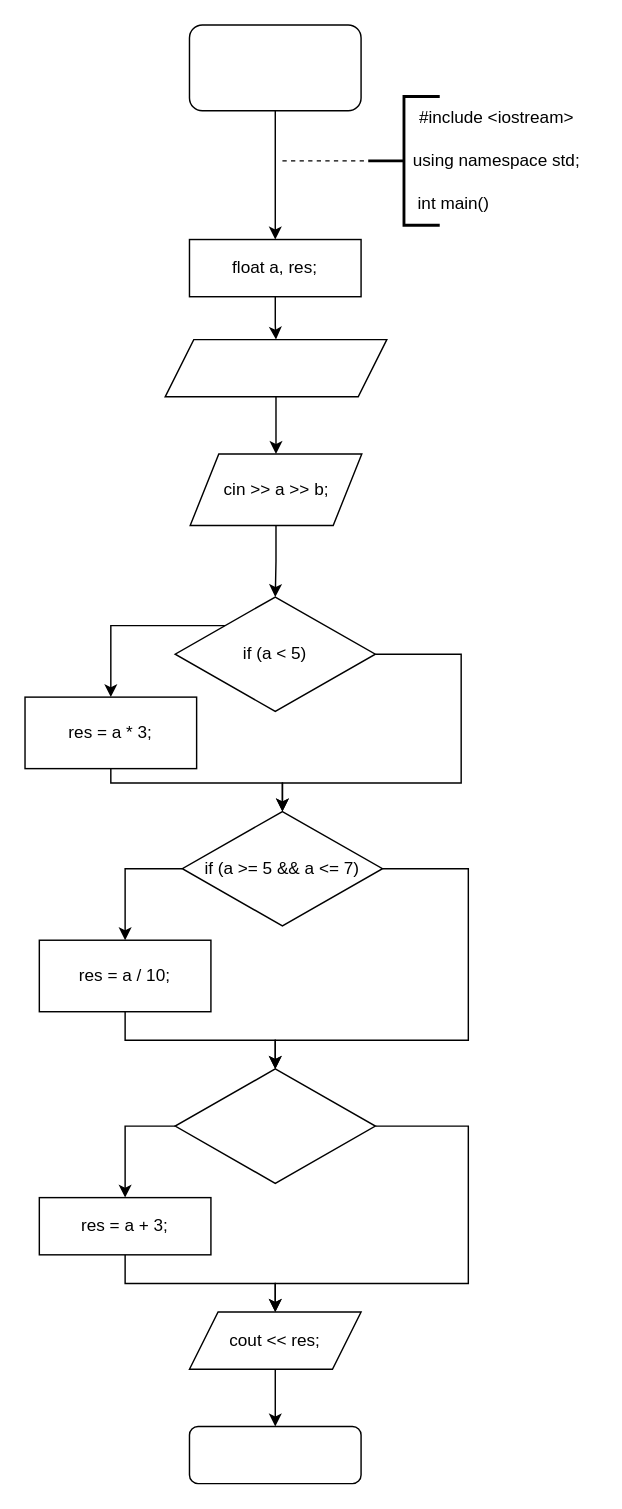
The diagram is 622 pixels wide and 1509 high, and some of its shapes have lost their labels. The shapes that lost their labels are listed below. From the top down, each one's box as (x1, y1, x2, y2) in pixels, then its label:
(188, 24, 361, 111): Запуск
(164, 338, 387, 397): cin >> a;
(174, 1067, 375, 1183): if (a > 7)
(188, 1425, 361, 1484): конец
